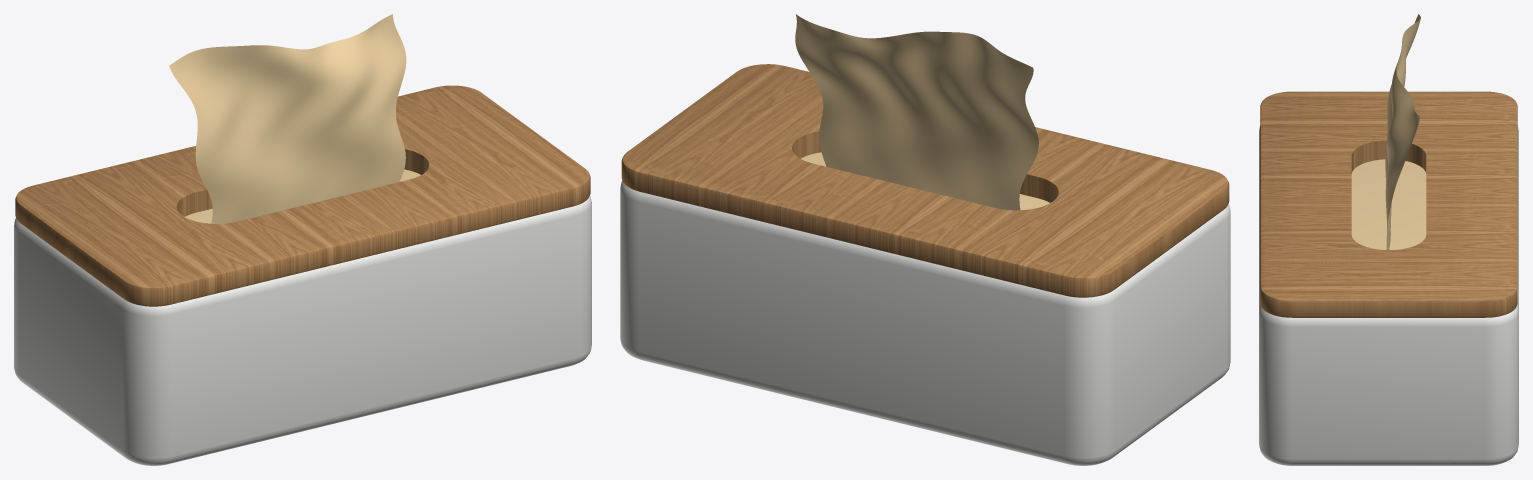
Rendered from tissue_box.glb.
The picture shows the model from 3 angles, left to right: view 1: azimuth 30°, elevation 25°; view 2: azimuth 150°, elevation 25°; view 3: azimuth 270°, elevation 25°; orthographic projection. The views are drawn at different scales.
Parts seen in each view (by area): view 1: Rangchhelo Wood Lid Tissue Box; view 2: Rangchhelo Wood Lid Tissue Box; view 3: Rangchhelo Wood Lid Tissue Box.
Part boxes in pixels (<box>): Rangchhelo Wood Lid Tissue Box: <box>14,14,591,465</box>; Rangchhelo Wood Lid Tissue Box: <box>620,14,1230,465</box>; Rangchhelo Wood Lid Tissue Box: <box>1259,14,1518,465</box>.
Size of the model in its own units: 0.24 by 0.163 by 0.125.
3 materials, 1 textured.
